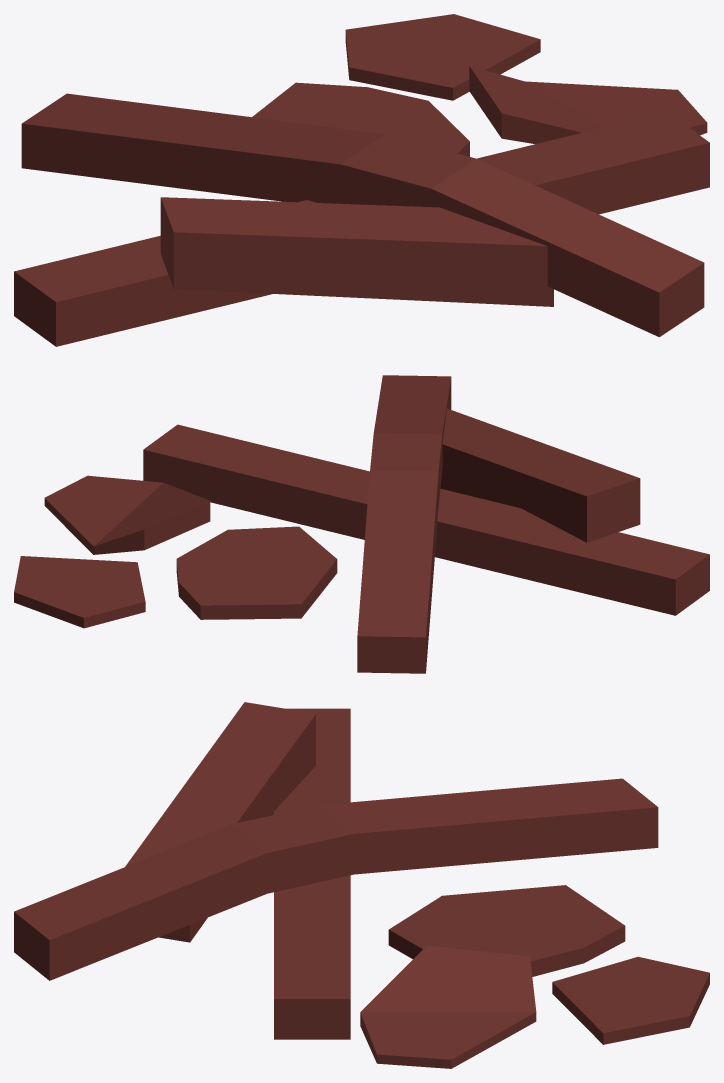
File: Stone debris.fbx
The picture shows the model from 3 angles, top to bottom: view 1: azimuth 30°, elevation 25°; view 2: azimuth 150°, elevation 25°; view 3: azimuth 270°, elevation 25°; orthographic projection. The views are drawn at different scales.
Visible parts, largest first — view 1: Stone debris; view 2: Stone debris; view 3: Stone debris.
Part boxes in pixels (bbox=[...]): Stone debris: bbox=[14, 14, 709, 346]; Stone debris: bbox=[14, 375, 709, 673]; Stone debris: bbox=[14, 702, 709, 1068].
Bounding box in the file's own units: 643 × 86.73 × 592.
